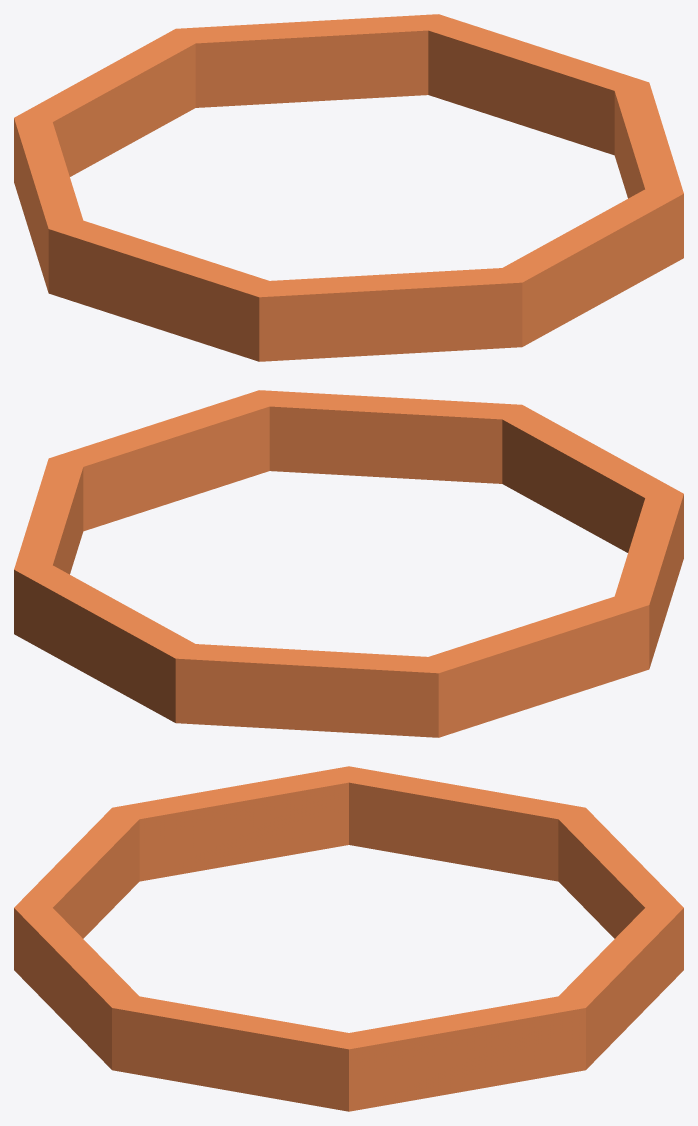
The model's file is Guilded_Coin_Bumper.fbx.
3 renders of one model, top to bottom at view 1: azimuth 30°, elevation 25°; view 2: azimuth 150°, elevation 25°; view 3: azimuth 270°, elevation 25°, orthographic. The views are drawn at different scales.
Parts seen in each view (by area): view 1: Cylinder.017; view 2: Cylinder.017; view 3: Cylinder.017.
Boxes of the visible parts, bbox=[...] form: Cylinder.017: bbox=[14, 14, 683, 361]; Cylinder.017: bbox=[14, 390, 683, 737]; Cylinder.017: bbox=[14, 766, 683, 1111].
Bounding box in the file's own units: 201 × 20.68 × 201.
